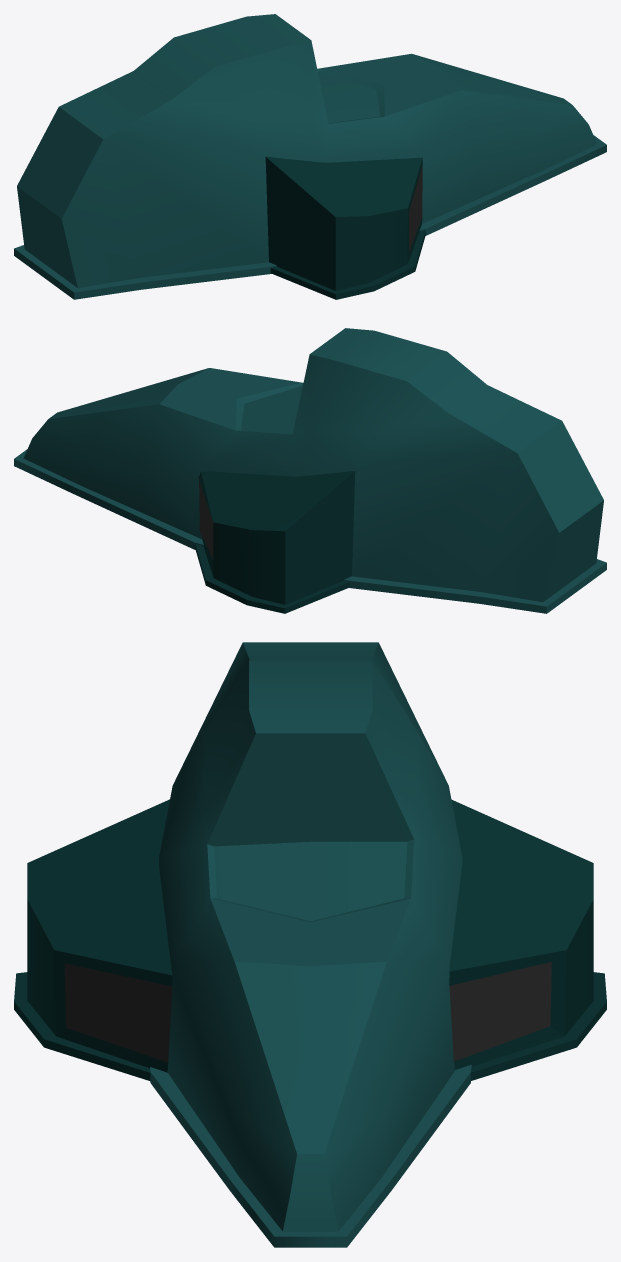
Rendered from Report_Body.FBX.
The picture shows the model from 3 angles, top to bottom: view 1: azimuth 30°, elevation 25°; view 2: azimuth 150°, elevation 25°; view 3: azimuth 270°, elevation 25°; orthographic projection. The views are drawn at different scales.
Visible parts, largest first — view 1: Report_Body; view 2: Report_Body; view 3: Report_Body.
Boxes of the visible parts, x1,y1,x2,y2 form: Report_Body: (14,14,606,299); Report_Body: (14,328,606,613); Report_Body: (14,642,606,1247).
Size of the model in its own units: 220 by 72.69 by 133.
